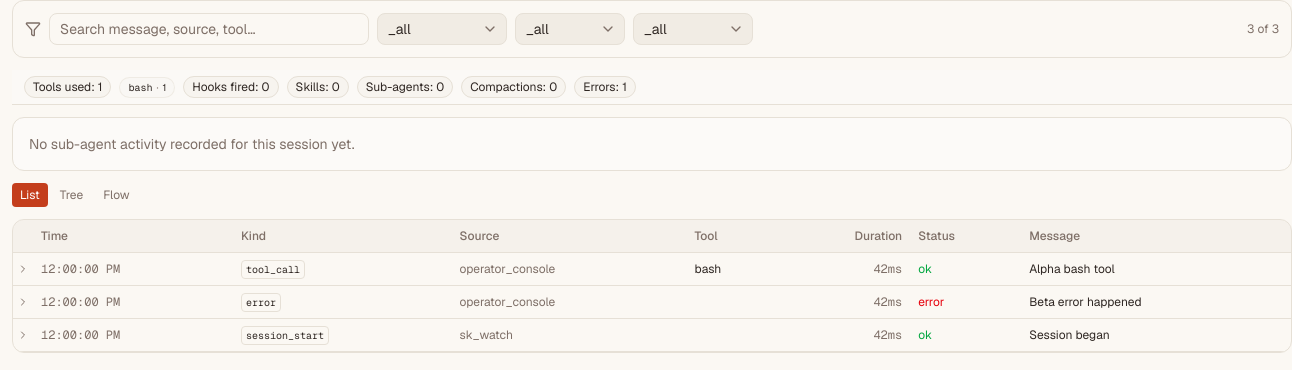
Test: DebugLogTab – filter behavior › shows 'No events match' message when all filtered out
Step 1. Type "zzz-nomatch-zzz" into the field named "filter by text" → [209, 29], box 49,13 -> 369,45
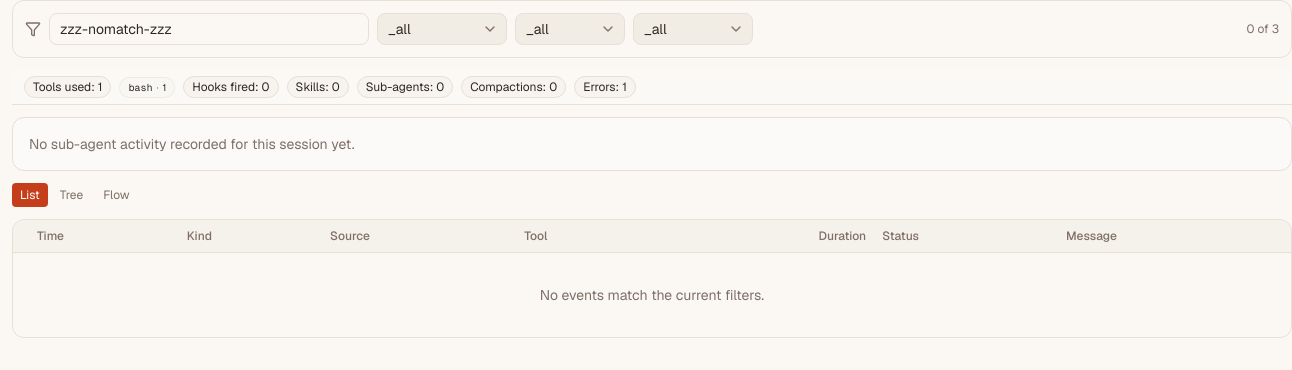
Expected: the text "No events match the current filters." is shown, 13,252 -> 1291,337
